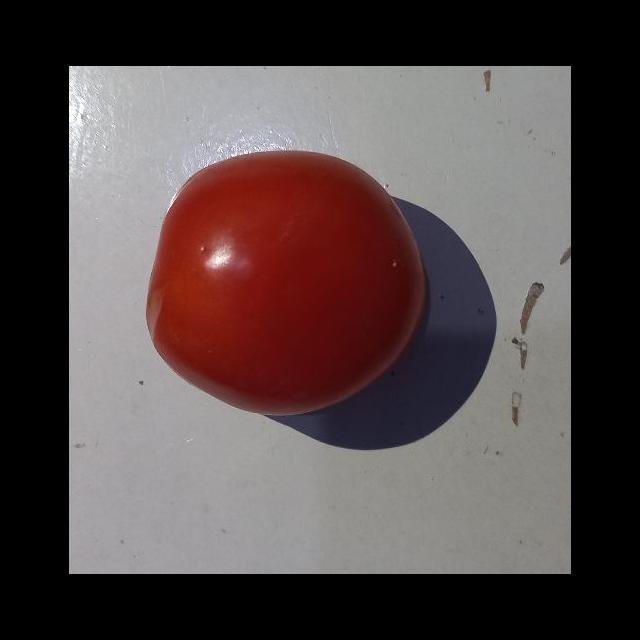tomato: (148, 142, 436, 441)
